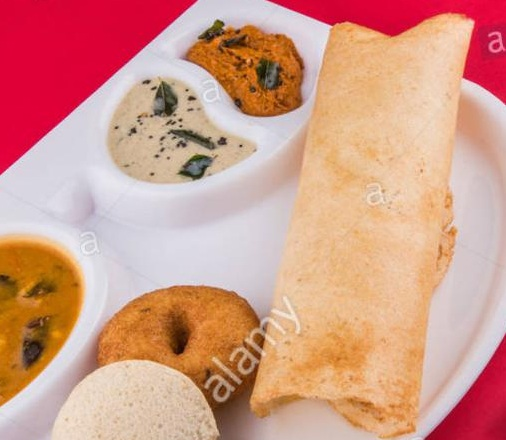dosa: (252, 12, 476, 439)
